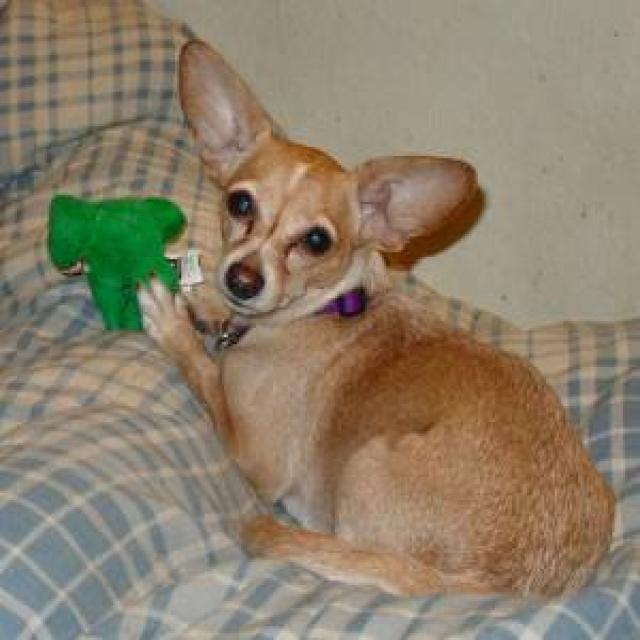dog-chihuahua: (130, 32, 619, 603)
